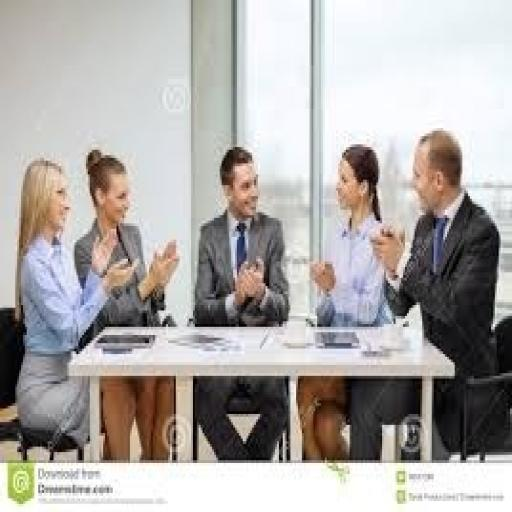clapping: (350, 126, 502, 460), (294, 142, 411, 460), (11, 155, 134, 455), (70, 147, 180, 460), (191, 144, 290, 460)
